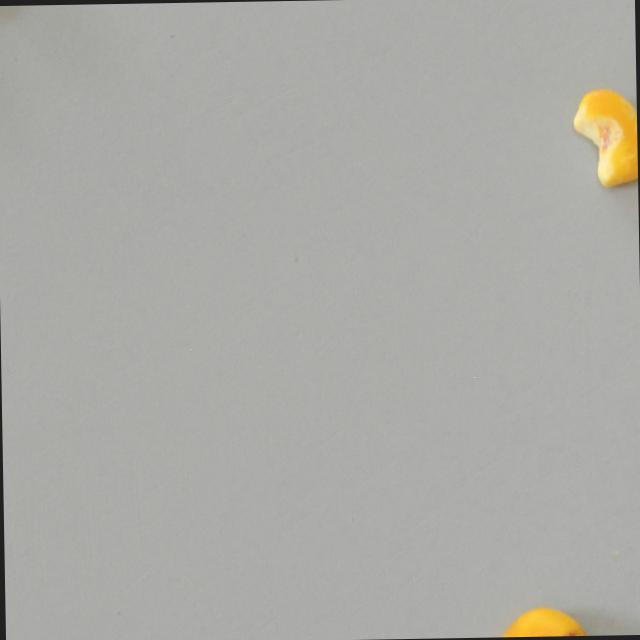dañado: (572, 86, 638, 188), (490, 605, 597, 637)
